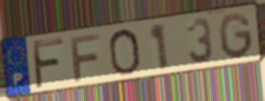1: (149, 22, 171, 72)
3: (184, 16, 214, 66)
F: (30, 36, 66, 91), (68, 32, 103, 83)
G: (217, 11, 255, 61)
O: (107, 27, 142, 78)
